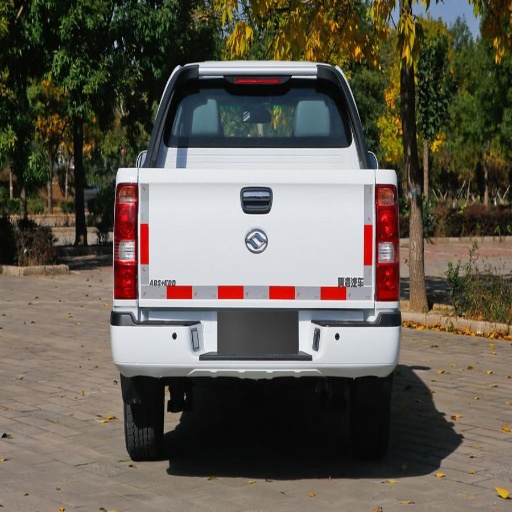_background_: (110, 311, 396, 377)
back_bumper: (163, 76, 353, 146)
back_left_door: (113, 182, 147, 300)
back_right_door: (367, 185, 409, 301)
tailgate: (117, 149, 394, 329)
trunk: (123, 385, 164, 459), (353, 407, 386, 445)
